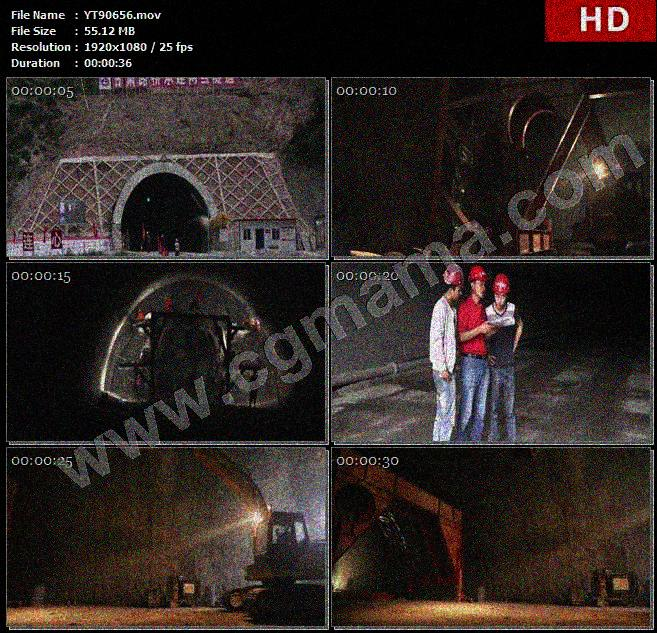helmet: (437, 262, 465, 301), (464, 260, 488, 299), (490, 272, 512, 311)
